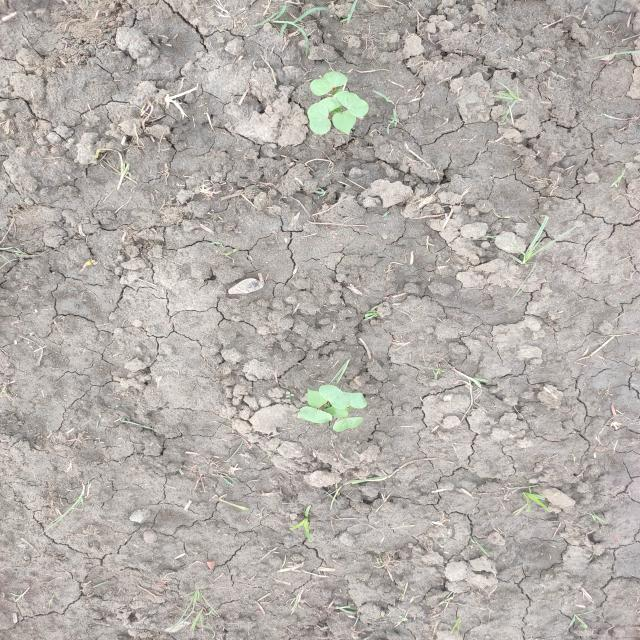seedling: (310, 72, 348, 96), (337, 92, 369, 117), (308, 103, 331, 135), (319, 385, 349, 409), (318, 91, 348, 112), (298, 406, 332, 424), (332, 110, 356, 135), (333, 417, 363, 432), (343, 392, 367, 409), (307, 388, 327, 408), (323, 405, 348, 418)
